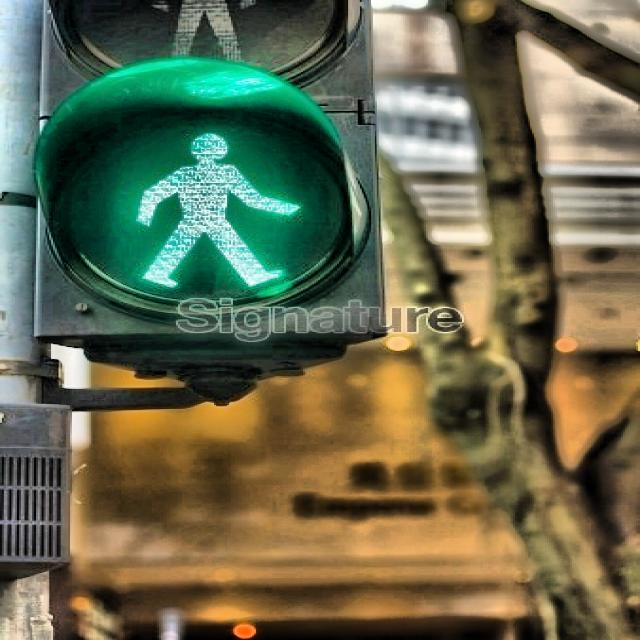green_light: (127, 127, 306, 289)
